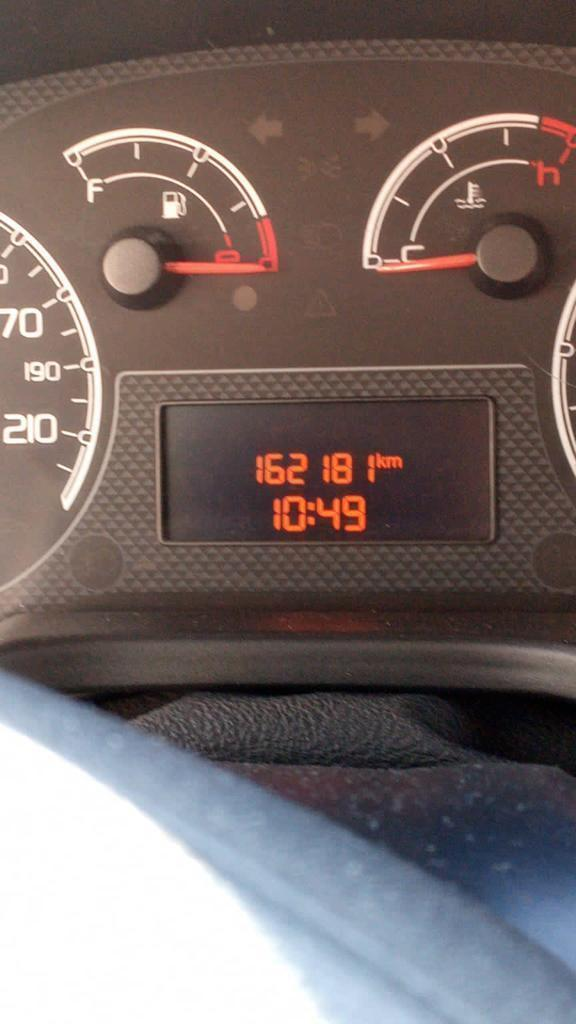0: (282, 495, 306, 532)
1: (271, 496, 282, 531), (254, 453, 264, 485), (366, 453, 376, 484), (321, 453, 330, 484)
2: (286, 452, 308, 485)
4: (315, 496, 341, 531)
6: (263, 452, 286, 485)
8: (330, 452, 352, 484)
9: (341, 495, 366, 532)
X: (306, 501, 316, 526), (386, 455, 403, 468), (375, 452, 385, 468)
odometer: (154, 393, 498, 547)
